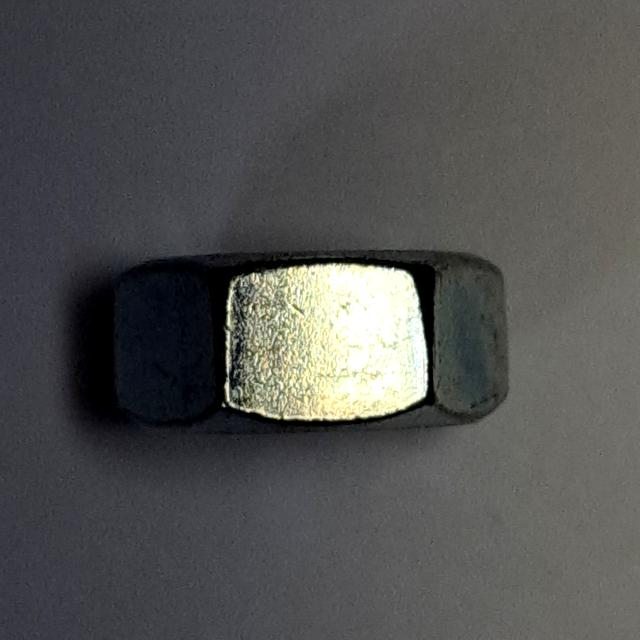Side_Excellent: (94, 229, 522, 454)
